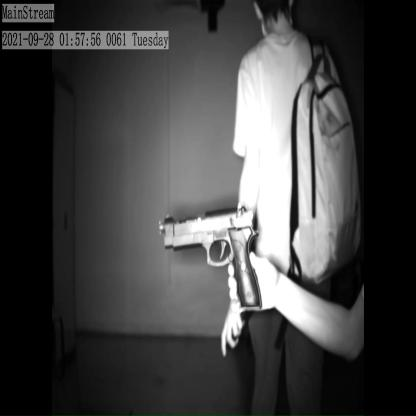weapon: (162, 196, 263, 312)
